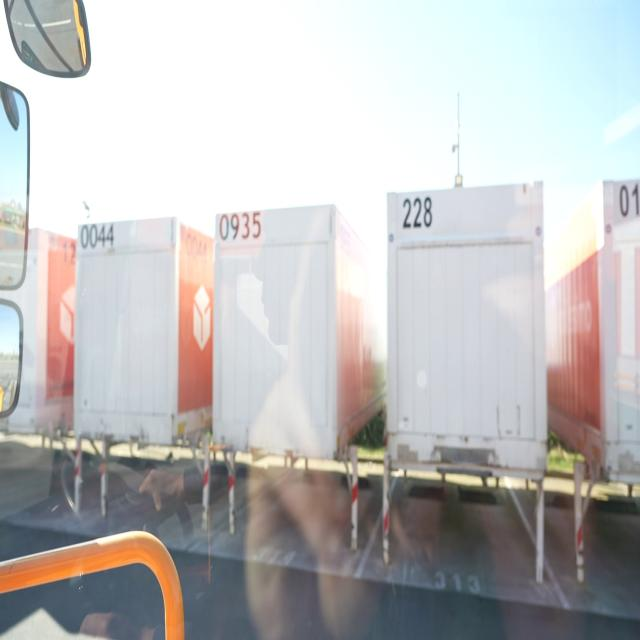Code: (219, 212, 264, 246), (397, 195, 436, 232), (77, 222, 118, 252)
